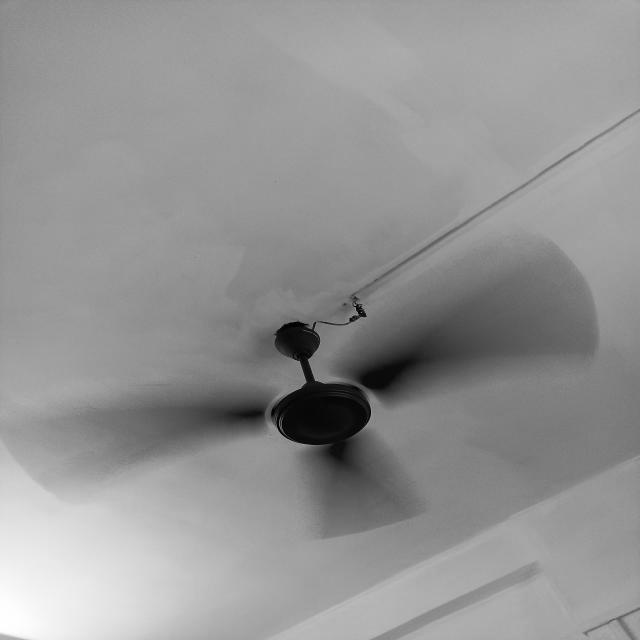fan: (11, 222, 591, 546)
